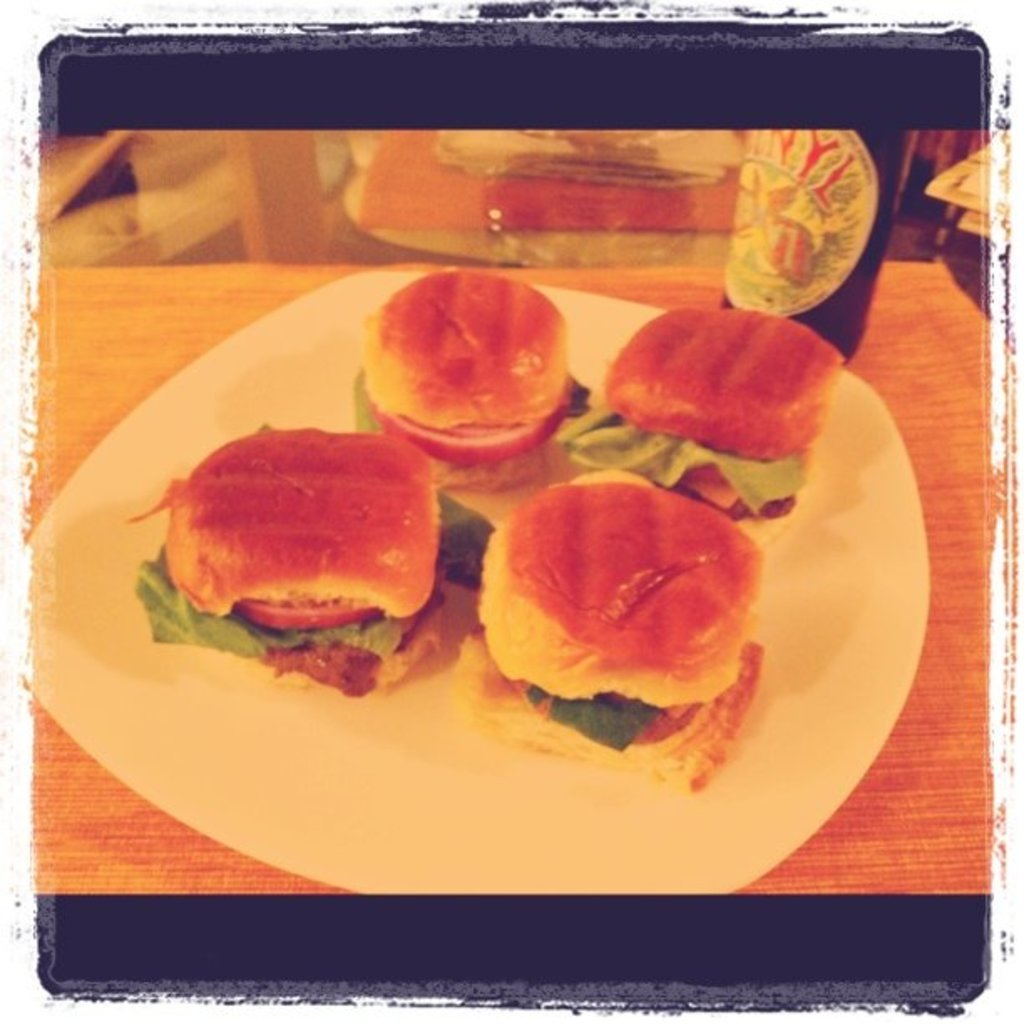Hamburger: (137, 423, 483, 697), (485, 473, 756, 756), (557, 302, 843, 517), (356, 271, 590, 476)
